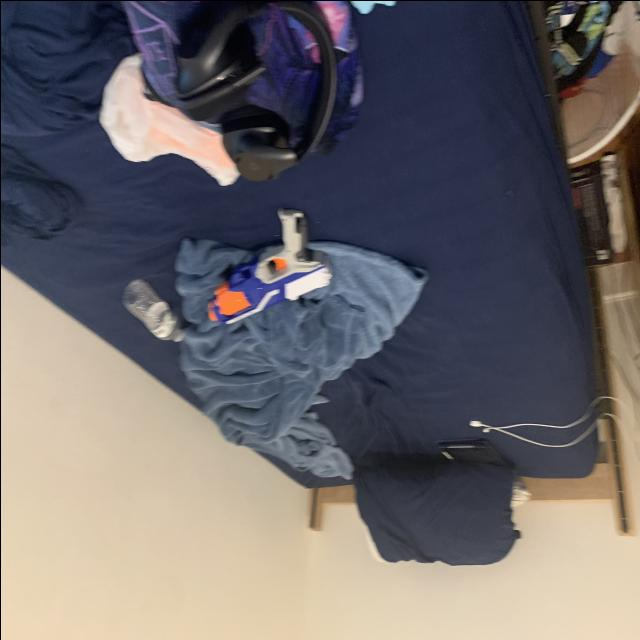nerf-maverik: (202, 196, 336, 342)
